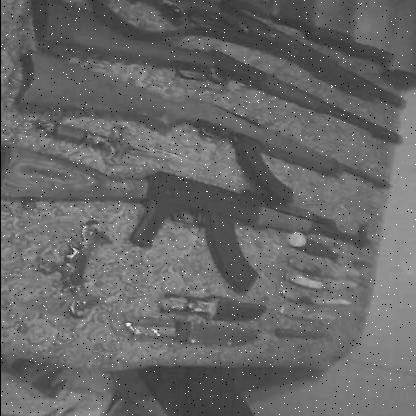rifle: (1, 148, 378, 327), (1, 53, 398, 212), (24, 0, 415, 153), (130, 0, 411, 117)
